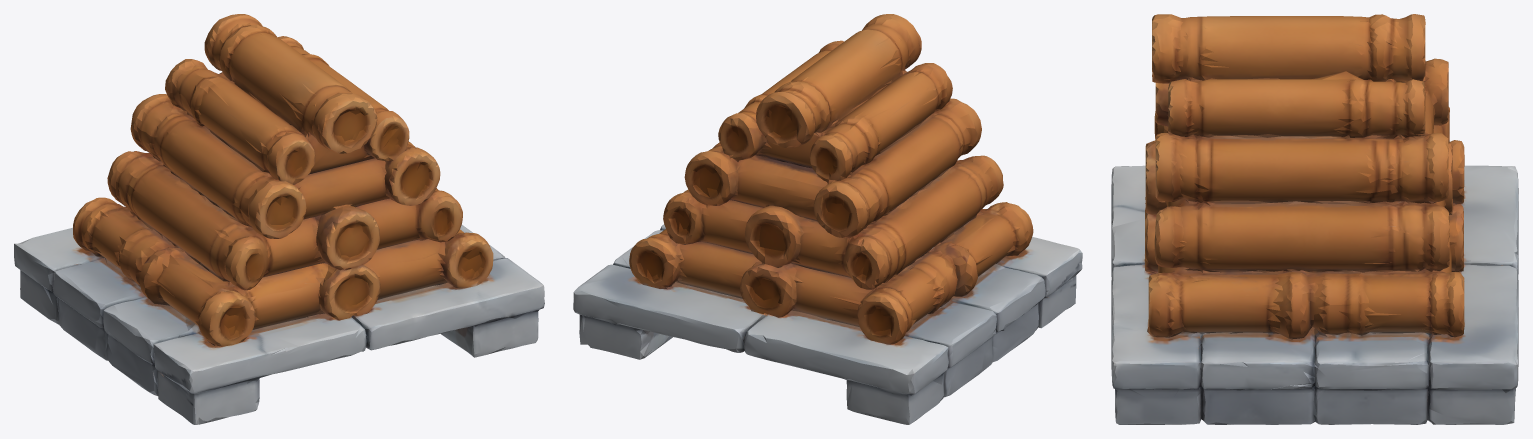
File: rodin_Forge_IngotStack_raw.glb
3 views of the same model, side by side, from view 1: azimuth 30°, elevation 25°; view 2: azimuth 150°, elevation 25°; view 3: azimuth 270°, elevation 25° (orthographic). The views are drawn at different scales.
Visible parts, largest first — view 1: model; view 2: model; view 3: model.
Part boxes in pixels (bbox=[...]): model: bbox=[14, 14, 544, 424]; model: bbox=[573, 14, 1082, 424]; model: bbox=[1111, 14, 1518, 424].
Bounding box in the file's own units: 1.9 × 1.39 × 1.65.
1 material, 1 textured.
